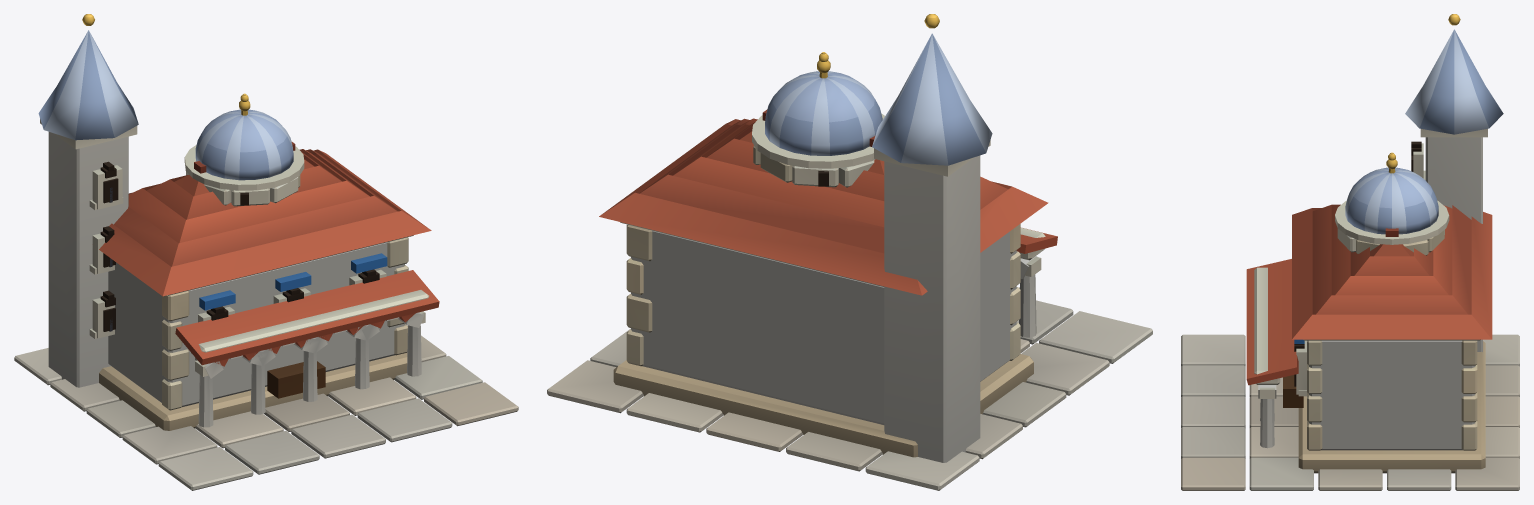
Rendered from b_court.glb.
3 views of the same model, side by side, from view 1: azimuth 30°, elevation 25°; view 2: azimuth 150°, elevation 25°; view 3: azimuth 270°, elevation 25° (orthographic). The views are drawn at different scales.
Visible parts, largest first — view 1: b_court, L3, L2; view 2: b_court, L3, L2; view 3: b_court, L3, L2.
Boxes of the visible parts, <box> form: b_court: <box>14,142,518,490</box>; L3: <box>38,14,138,387</box>; L2: <box>184,93,304,206</box>; b_court: <box>547,109,1152,490</box>; L3: <box>872,14,992,462</box>; L2: <box>752,52,884,187</box>; b_court: <box>1181,204,1519,490</box>; L3: <box>1405,14,1503,352</box>; L2: <box>1335,152,1449,255</box>.
Bounding box in the file's own units: 0.701 × 0.732 × 0.652.
